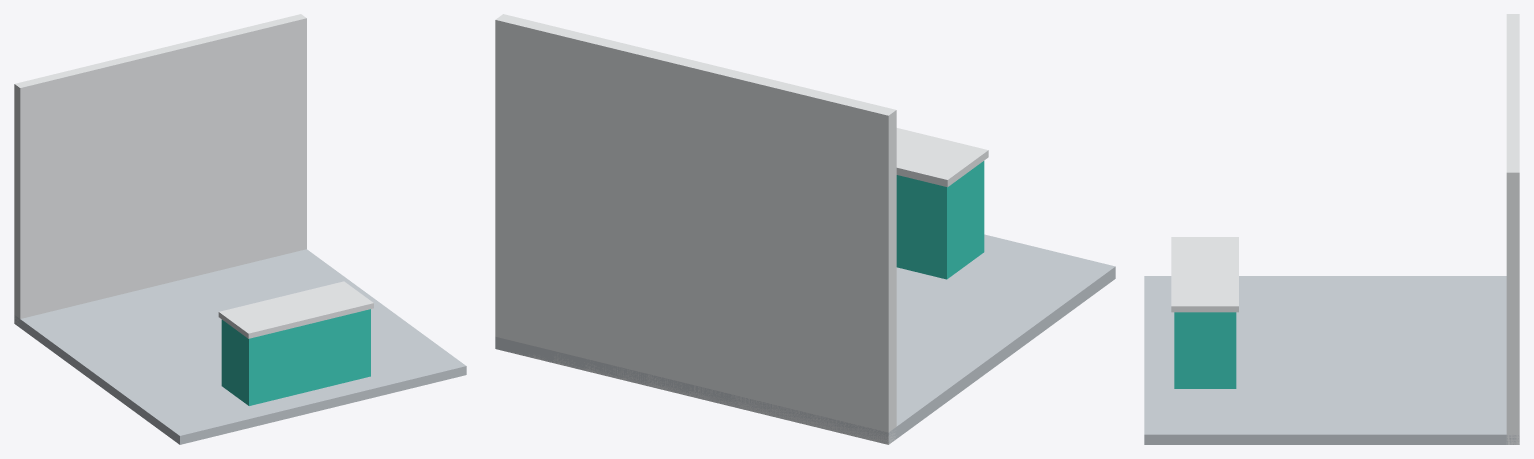
3 renders of one model, left to right at view 1: azimuth 30°, elevation 25°; view 2: azimuth 150°, elevation 25°; view 3: azimuth 270°, elevation 25°, orthographic. The views are drawn at different scales.
Parts seen in each view (by area): view 1: Exhibition Booth Concept; view 2: Exhibition Booth Concept; view 3: Exhibition Booth Concept.
Part boxes in pixels (box(x1,y1,x2,y2)): Exhibition Booth Concept: box(14, 14, 466, 444); Exhibition Booth Concept: box(495, 14, 1115, 444); Exhibition Booth Concept: box(1144, 14, 1519, 444).
Bounding box in the file's own units: 4 × 3.2 × 4.
